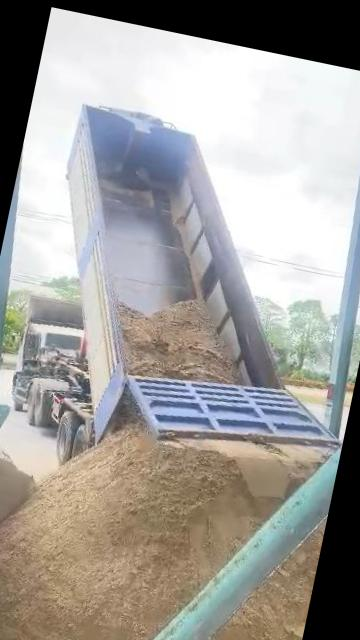sand: (0, 392, 280, 640), (156, 531, 322, 640), (120, 300, 239, 383), (179, 439, 323, 501), (0, 456, 35, 546)
